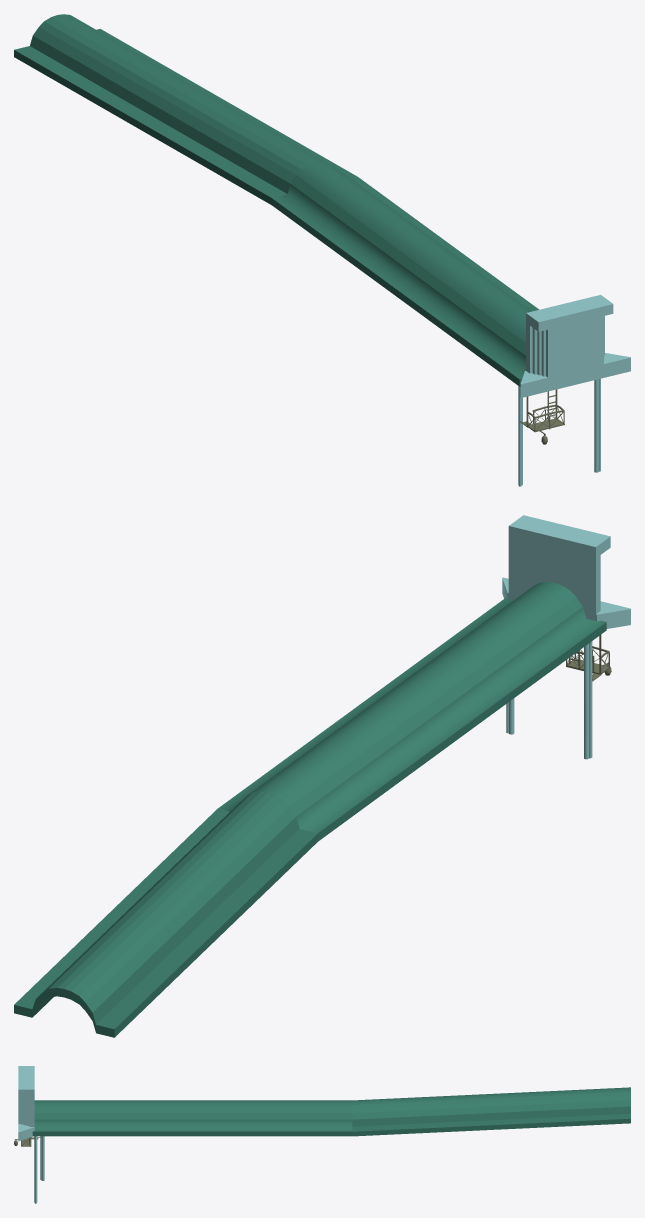
The model's file is ebisubashi.FBX.
The picture shows the model from 3 angles, top to bottom: view 1: azimuth 30°, elevation 25°; view 2: azimuth 150°, elevation 25°; view 3: azimuth 270°, elevation 25°; orthographic projection. The views are drawn at different scales.
Parts seen in each view (by area): view 1: tunnel, Main Sign, Ladder; view 2: tunnel, Main Sign, Ladder; view 3: tunnel, Main Sign.
Boxes of the visible parts, bbox=[...] form: tunnel: bbox=[14, 14, 538, 386]; Main Sign: bbox=[518, 295, 630, 486]; Ladder: bbox=[519, 389, 564, 444]; tunnel: bbox=[14, 582, 606, 1037]; Main Sign: bbox=[502, 515, 630, 759]; Ladder: bbox=[566, 635, 611, 681]; tunnel: bbox=[32, 1087, 630, 1136]; Main Sign: bbox=[18, 1066, 44, 1203].
Size of the model in its own units: 79.03 by 94.28 by 463.
